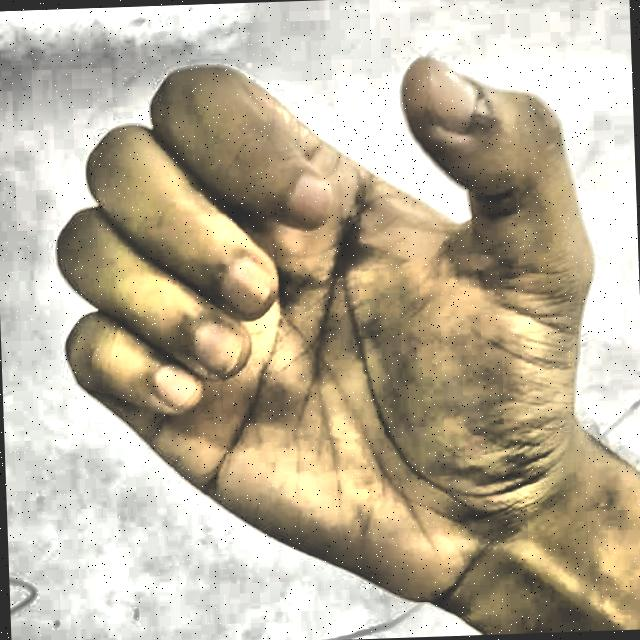Dho: (32, 30, 628, 627)
